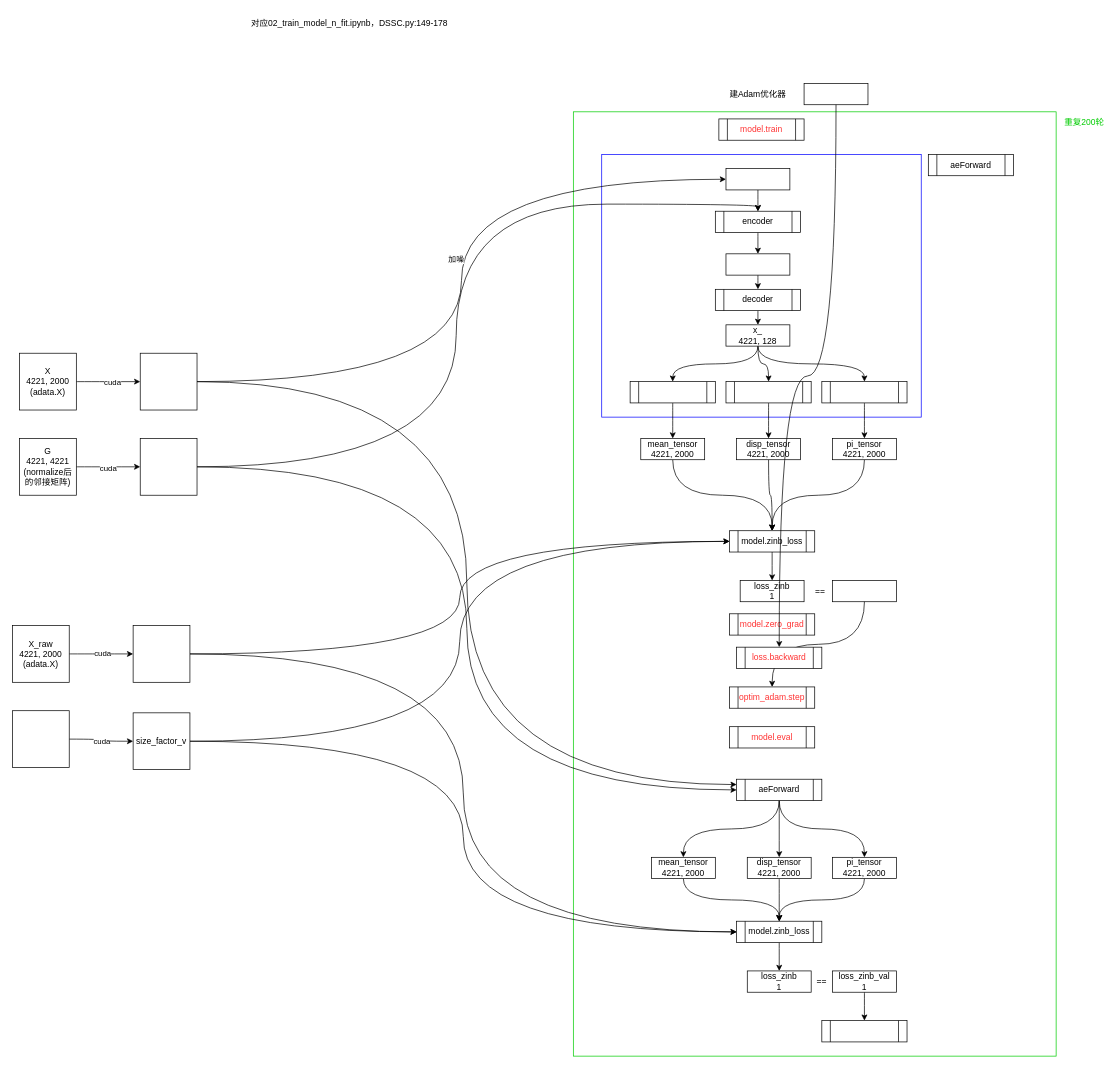
Image size: 1118x1069. Some labels were removed from this diagram. The shapes that lost their labels are listed below. From the top down, each one's box as (x1, y1, x2, y2) in pixels, then its label:
(803, 83, 868, 105): optim_adam
(725, 168, 790, 190): x_c
(725, 253, 790, 275): z 4221, 32
(140, 353, 197, 410): X_v
(629, 381, 715, 403): ._dec_mean
(725, 381, 811, 403): ._dec_disp
(821, 381, 907, 403): ._dec_pi
(140, 438, 197, 495): G_v
(832, 580, 896, 602): loss 1
(132, 625, 190, 682): X_raw_v
(12, 710, 69, 768): size_factor 4221,
(821, 1020, 907, 1042): print
